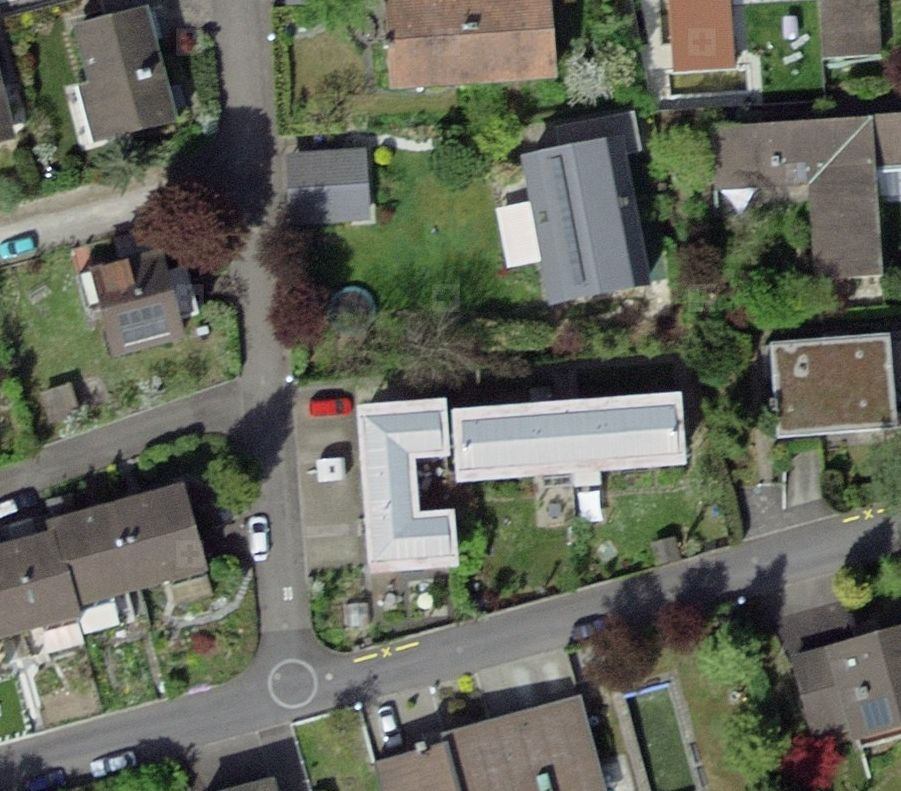solar: (853, 685, 901, 740)
